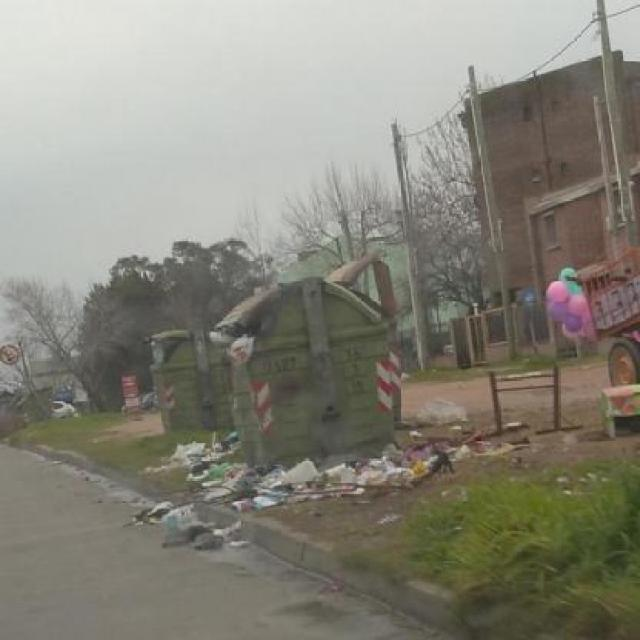garbage: (159, 445, 462, 510), (211, 325, 288, 447), (106, 499, 232, 572), (408, 386, 485, 450)
